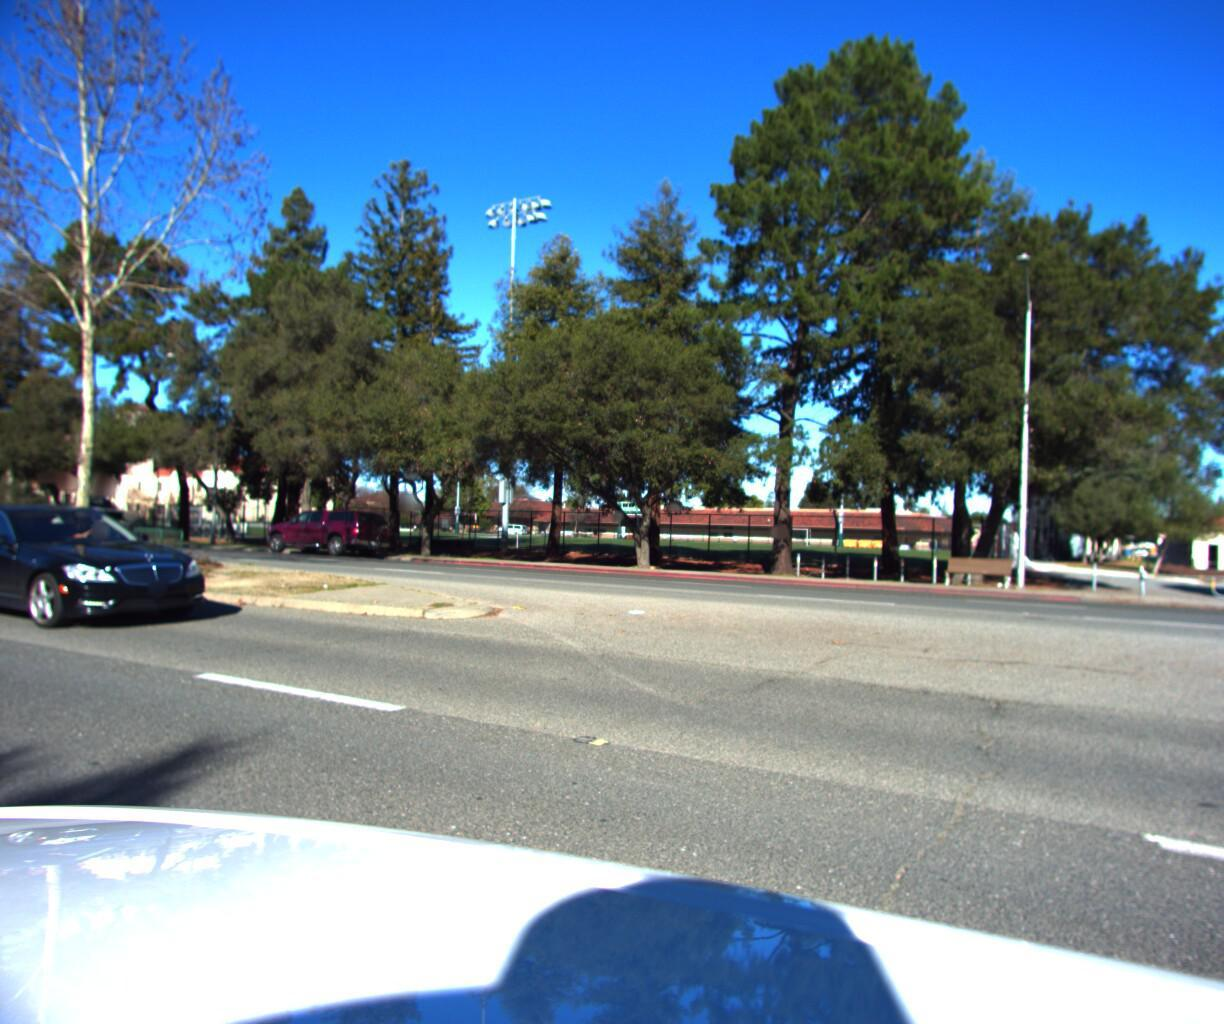car: (0, 497, 235, 640), (258, 509, 393, 562), (47, 508, 141, 551), (0, 511, 8, 542)
